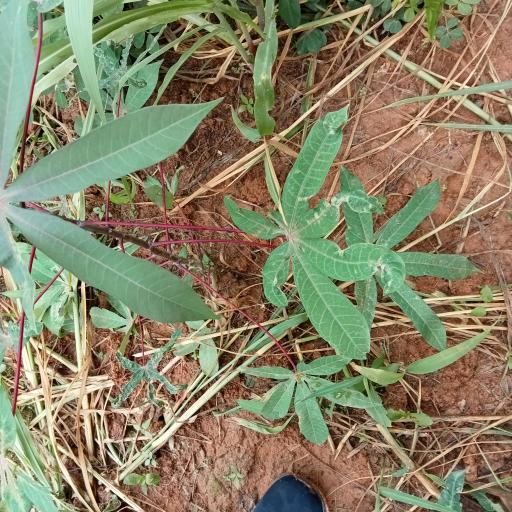Cassava_Mosaic: (220, 120, 376, 348), (338, 176, 478, 352), (247, 350, 384, 451)
